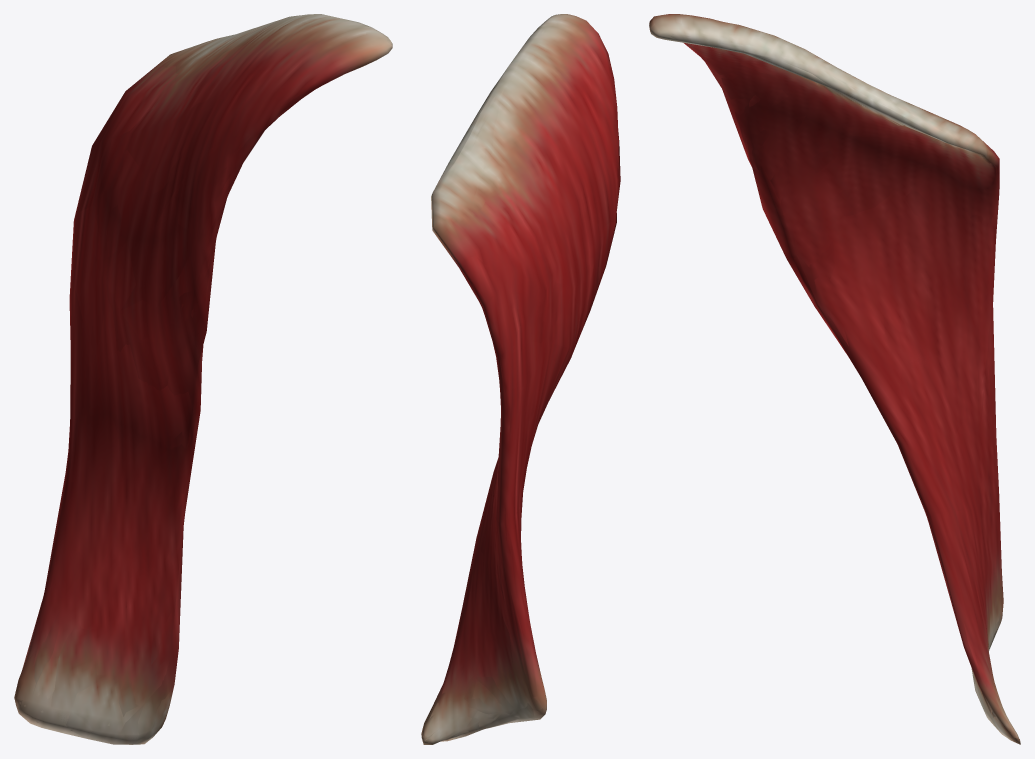
File: R Brachiocephalicus.fbx
3 renders of one model, left to right at view 1: azimuth 30°, elevation 25°; view 2: azimuth 150°, elevation 25°; view 3: azimuth 270°, elevation 25°, orthographic. The views are drawn at different scales.
Parts seen in each view (by area): view 1: R Brachiocephalicus, R Brachiocephalicus high, R Brachiocephalicus low; view 2: R Brachiocephalicus, R Brachiocephalicus low, R Brachiocephalicus high; view 3: R Brachiocephalicus high, R Brachiocephalicus, R Brachiocephalicus low.
Part boxes in pixels (left/top/right/bottom): R Brachiocephalicus: left=14, top=14, right=392, bottom=744; R Brachiocephalicus high: left=18, top=16, right=390, bottom=732; R Brachiocephalicus low: left=14, top=14, right=392, bottom=743; R Brachiocephalicus: left=421, top=14, right=620, bottom=744; R Brachiocephalicus low: left=422, top=19, right=620, bottom=741; R Brachiocephalicus high: left=422, top=14, right=618, bottom=742; R Brachiocephalicus high: left=657, top=15, right=1018, bottom=740; R Brachiocephalicus: left=649, top=14, right=1020, bottom=744; R Brachiocephalicus low: left=651, top=21, right=1003, bottom=719.
Bounding box in the file's own units: 2.61 × 11.32 × 5.23.
Materials: 1 (1 with a texture image).
